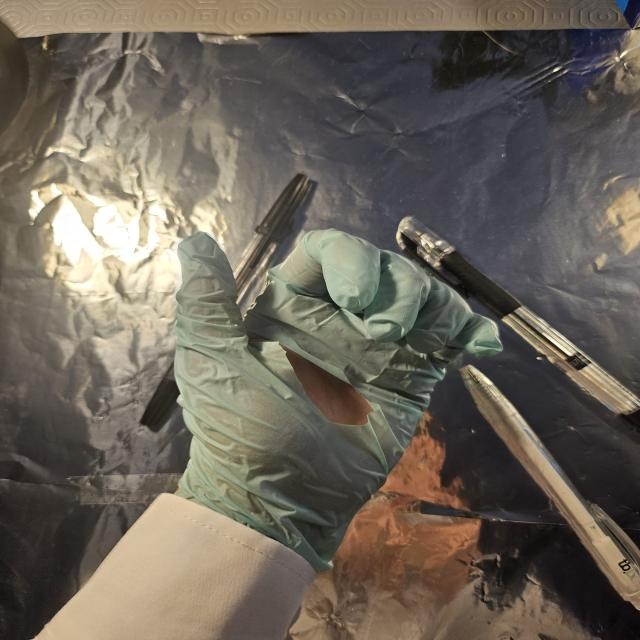gloves_damaged: (167, 224, 509, 567)
